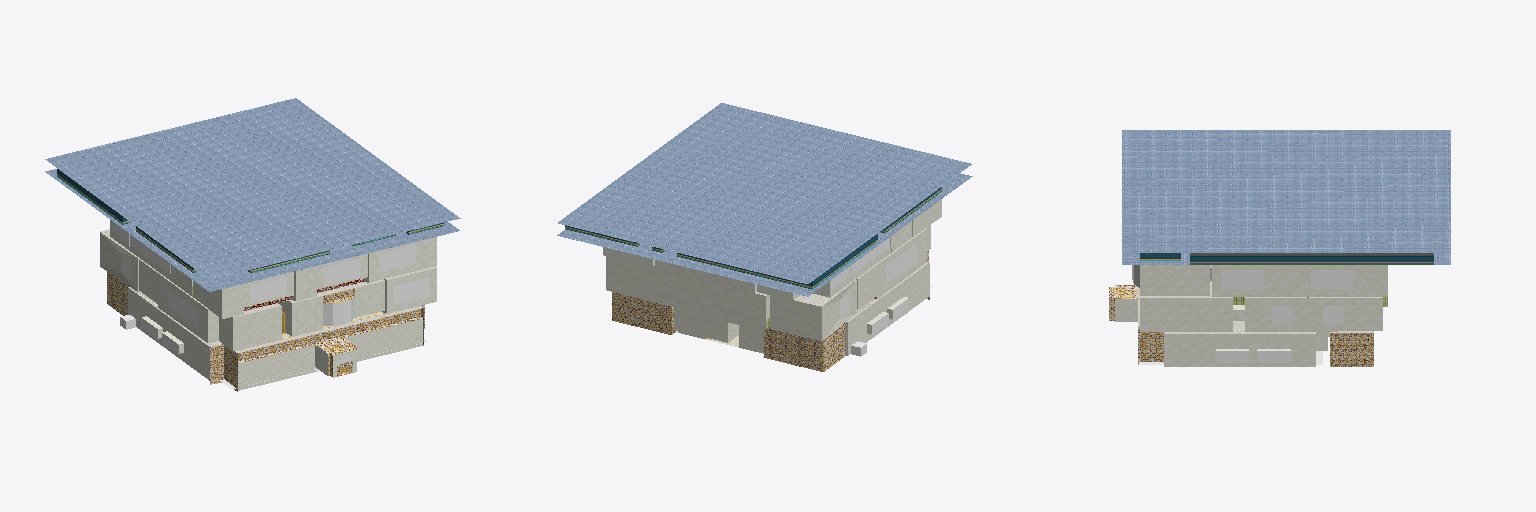
The picture shows the model from 3 angles: view 1: azimuth 30°, elevation 25°; view 2: azimuth 150°, elevation 25°; view 3: azimuth 270°, elevation 25°; orthographic projection.
Visible parts, largest first — view 1: Mesh.001_Mesh_delfino4_No_Texture_RemDupVer; view 2: Mesh.001_Mesh_delfino4_No_Texture_RemDupVer; view 3: Mesh.001_Mesh_delfino4_No_Texture_RemDupVer.
Boxes of the visible parts, x1=… form: Mesh.001_Mesh_delfino4_No_Texture_RemDupVer: x1=45, y1=98, x2=460, y2=391; Mesh.001_Mesh_delfino4_No_Texture_RemDupVer: x1=557, y1=103, x2=972, y2=371; Mesh.001_Mesh_delfino4_No_Texture_RemDupVer: x1=1109, y1=130, x2=1450, y2=366.
Bounding box in the file's own units: 55.68 × 27.43 × 65.74.
42 materials, 20 textured.